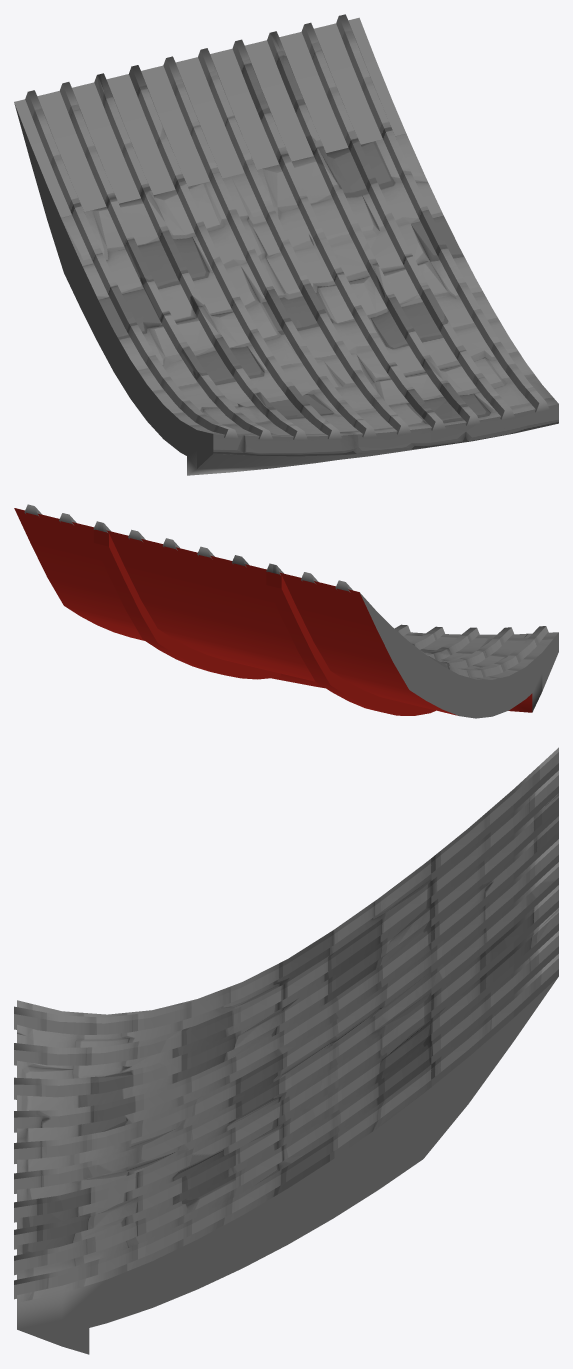
Rendered from SM_Bld_Kawara_M_Tip_Far_01.fbx.
3 renders of one model, top to bottom at view 1: azimuth 30°, elevation 25°; view 2: azimuth 150°, elevation 25°; view 3: azimuth 270°, elevation 25°, orthographic. The views are drawn at different scales.
Visible parts, largest first — view 1: SM_Bld_Kawara_M_Tip_Far_01; view 2: SM_Bld_Kawara_M_Tip_Far_01; view 3: SM_Bld_Kawara_M_Tip_Far_01.
Boxes of the visible parts, bbox=[...] form: SM_Bld_Kawara_M_Tip_Far_01: bbox=[14, 14, 558, 475]; SM_Bld_Kawara_M_Tip_Far_01: bbox=[14, 504, 558, 718]; SM_Bld_Kawara_M_Tip_Far_01: bbox=[14, 747, 558, 1354].
Bounding box in the file's own units: 5 × 3.94 × 5.03.
